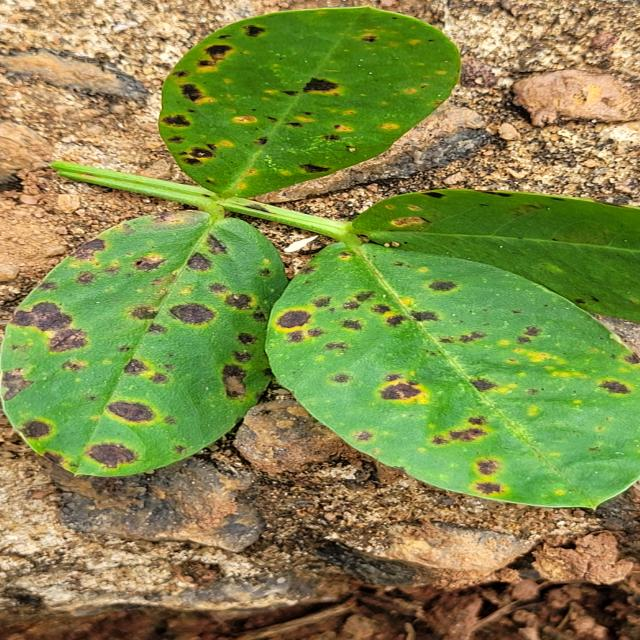Ground nut_tikka leaf spot: (262, 240, 633, 508), (0, 210, 292, 484), (156, 13, 461, 203)
